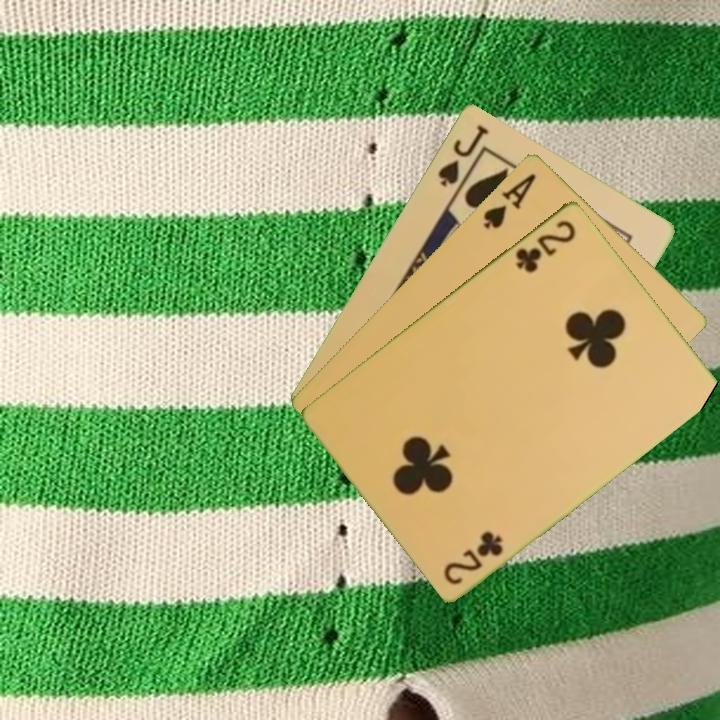2c: (512, 215, 579, 276), (440, 527, 506, 588)
As: (479, 169, 539, 232)
Js: (434, 120, 492, 190)
